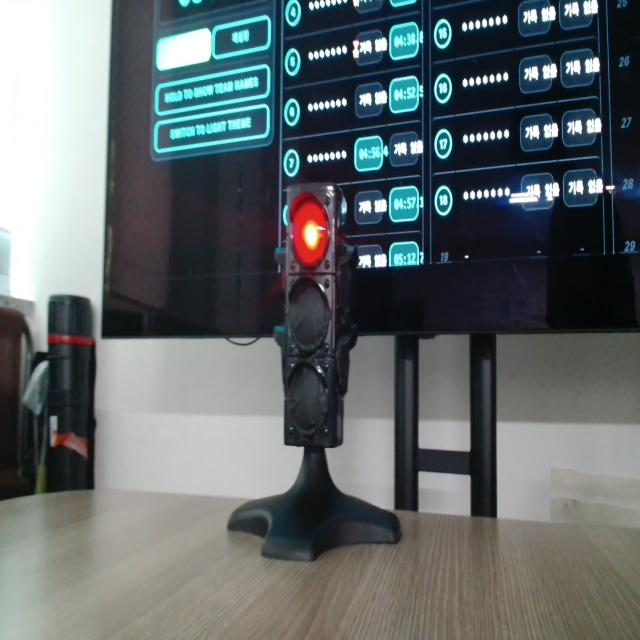red_light: (290, 194, 328, 267)
